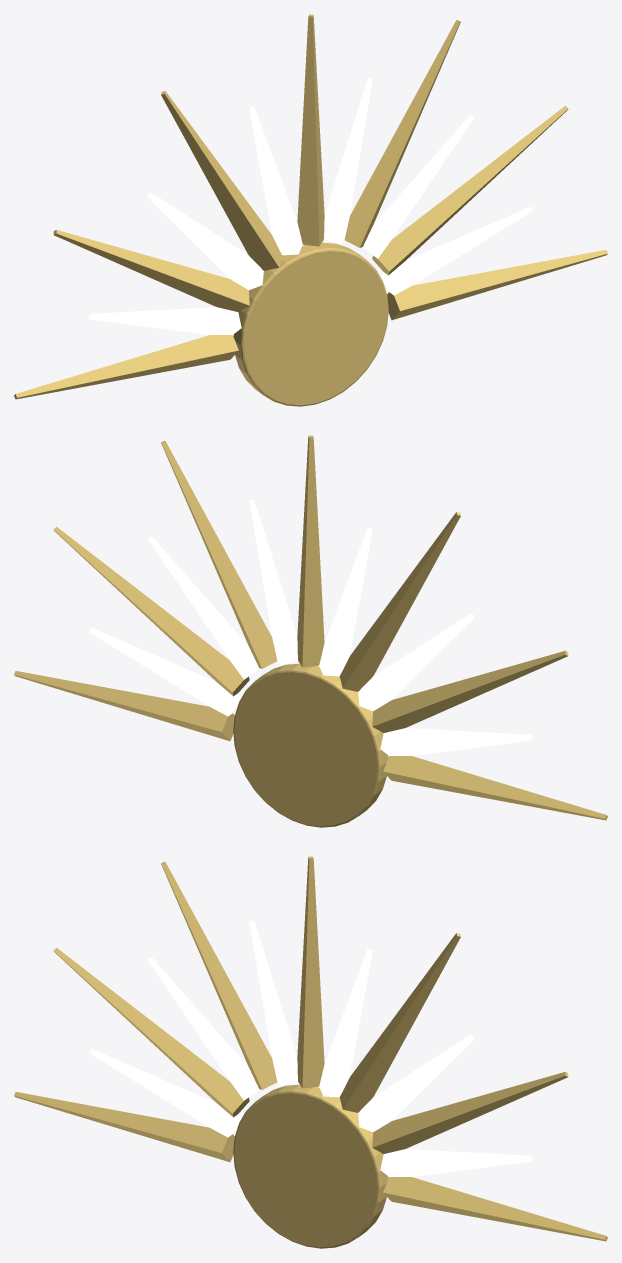
File: Sunburst.fbx
3 renders of one model, top to bottom at view 1: azimuth 30°, elevation 25°; view 2: azimuth 150°, elevation 25°; view 3: azimuth 330°, elevation 25°, orthographic.
Visible parts, largest first — view 1: Sunburst; view 2: Sunburst; view 3: Sunburst.
Boxes of the visible parts, x1,y1,x2,y2 form: Sunburst: (14, 14, 607, 406); Sunburst: (14, 435, 607, 827); Sunburst: (14, 856, 607, 1248).
Bounding box in the file's own units: 8.8 × 5.5 × 0.44.
